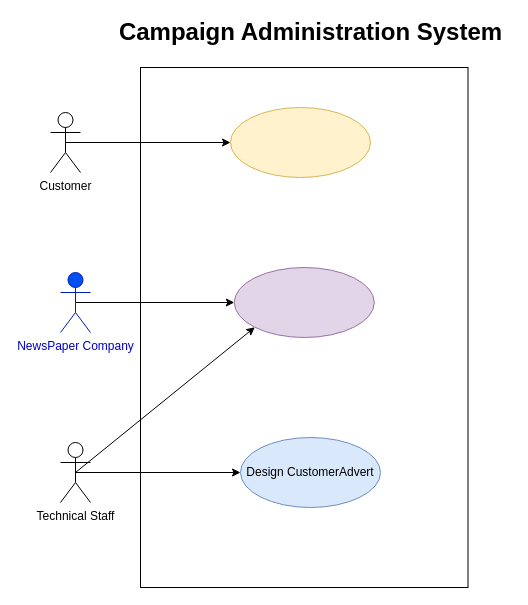
Image size: 528x605. Some labels were removed from this diagram. The shapes that lost their labels are listed below. From the top down, each one's centre as x and y in pixels, then its label:
At (x=300, y=142): "ComissionAdvertising Company".
At (x=303, y=302): "Run Advertising Company".
